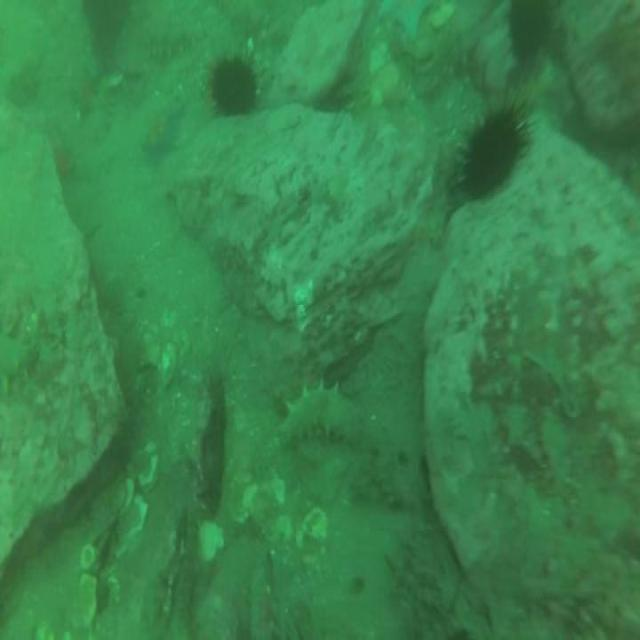echinus: (445, 95, 535, 216), (205, 49, 266, 125), (504, 0, 558, 74), (76, 0, 120, 52)
holothurian: (276, 378, 362, 453), (138, 20, 195, 70), (84, 72, 116, 156)
starfish: (140, 96, 185, 174), (375, 0, 439, 44)
